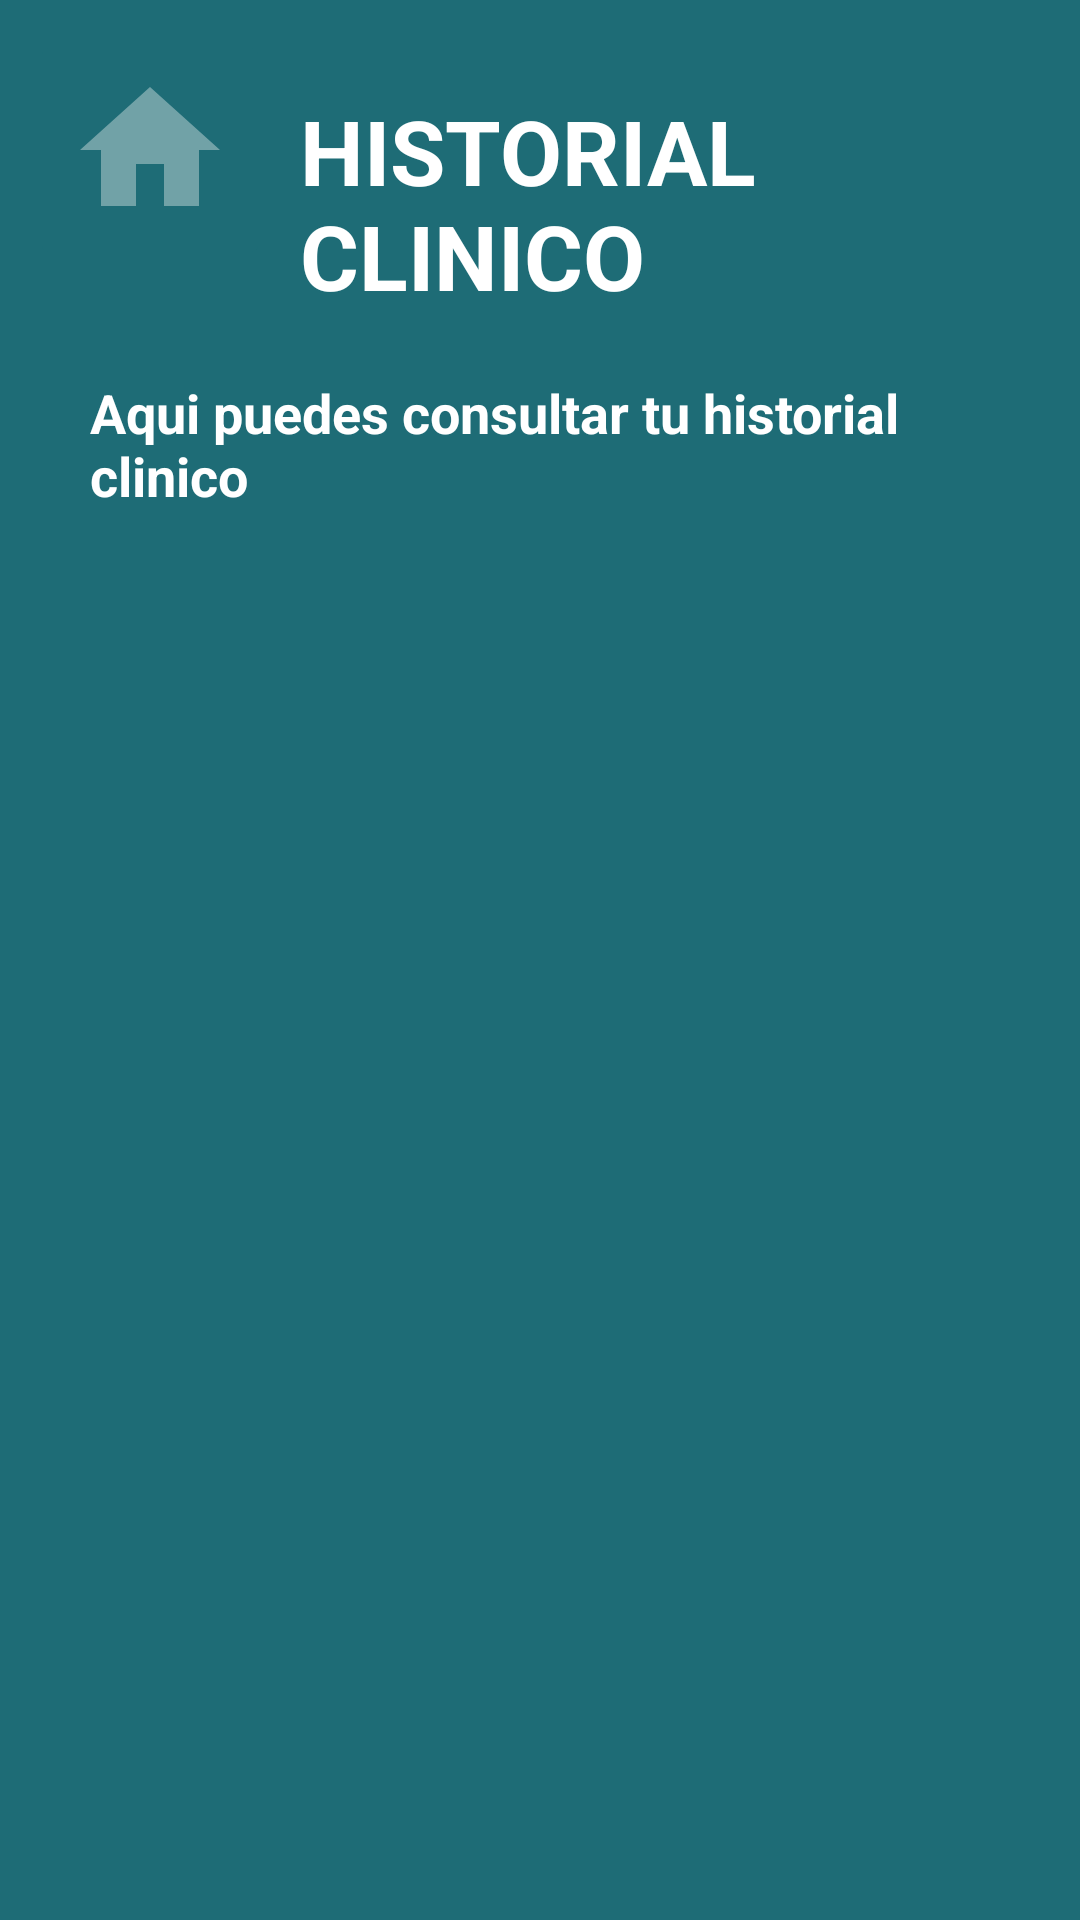

Locate icon controls on the screen. Image size 1080 x 1920, boxes as (x1, y1, x2, y2).
home: (80, 87, 220, 206)
